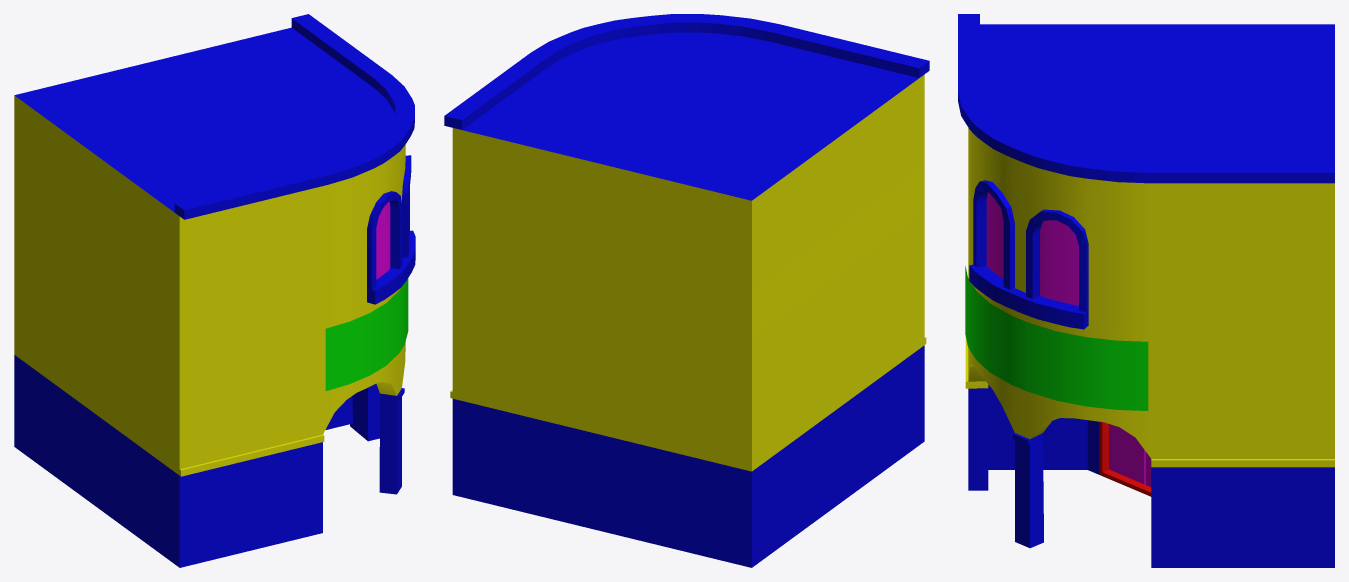
File: Flynns_NormalType.fbx
The picture shows the model from 3 angles, left to right: view 1: azimuth 30°, elevation 25°; view 2: azimuth 150°, elevation 25°; view 3: azimuth 270°, elevation 25°; orthographic projection. The views are drawn at different scales.
Parts seen in each view (by area): view 1: Flynns; view 2: Flynns; view 3: Flynns.
Boxes of the visible parts, x1,y1,x2,y2 form: Flynns: [14, 14, 415, 567]; Flynns: [444, 14, 929, 567]; Flynns: [958, 14, 1334, 567].
Size of the model in its own units: 13.14 by 15.39 by 13.16.
